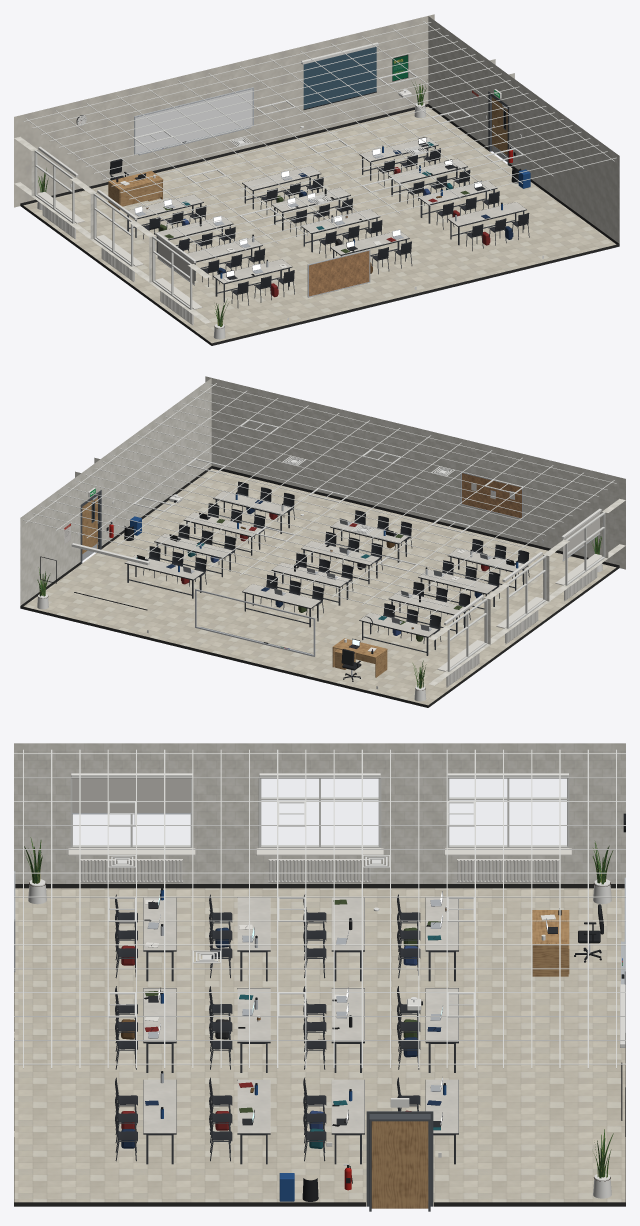
The model's file is room.glb.
The picture shows the model from 3 angles, top to bottom: view 1: azimuth 30°, elevation 25°; view 2: azimuth 150°, elevation 25°; view 3: azimuth 270°, elevation 25°; orthographic projection. The views are drawn at different scales.
Visible parts, largest first — view 1: Room, Props, Emissive; view 2: Room, Props; view 3: Room, Props.
Part boxes in pixels (left/top/right/bottom): Room: left=14, top=14, right=619, bottom=345; Props: left=23, top=21, right=616, bottom=258; Emissive: left=135, top=47, right=499, bottom=276; Room: left=20, top=376, right=625, bottom=707; Props: left=23, top=383, right=616, bottom=620; Room: left=14, top=743, right=625, bottom=1211; Props: left=14, top=749, right=625, bottom=1068.
Size of the model in its own units: 16.51 by 3.4 by 13.
61 materials, 15 textured.
